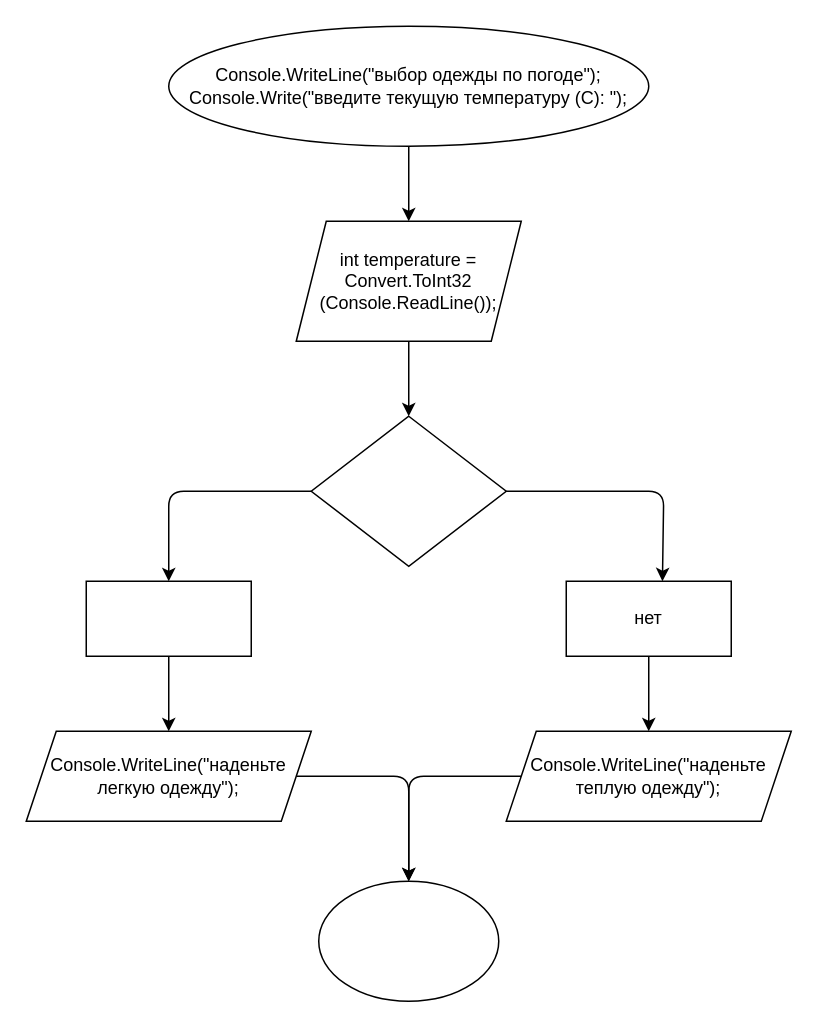
Some shapes in this 818 by 1028 pixel diagram are drawn without their labels. Each missing label, with the centre of its shape:
Console.WriteLine ("хорошего дня!");: (x=408, y=940)
if (temperature >= 20): (x=408, y=490)
да: (x=168, y=618)
